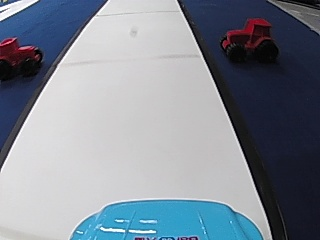tractor: (217, 15, 278, 64), (0, 34, 41, 80)
